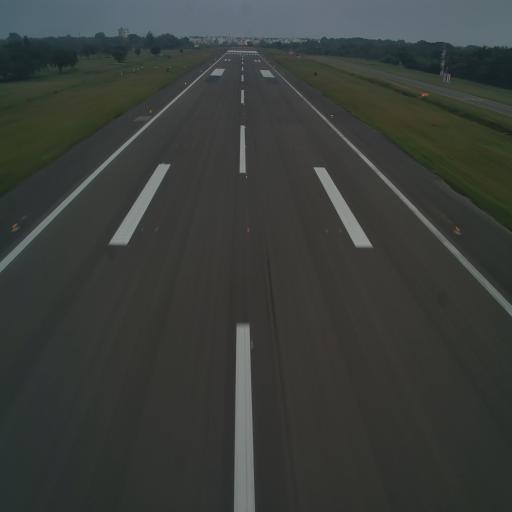off: (153, 222, 160, 235), (138, 224, 146, 235), (324, 228, 330, 238), (337, 225, 343, 235)
on: (453, 218, 463, 241), (10, 217, 18, 236), (249, 335, 256, 353), (246, 226, 252, 236), (245, 172, 250, 183), (244, 142, 247, 148)
